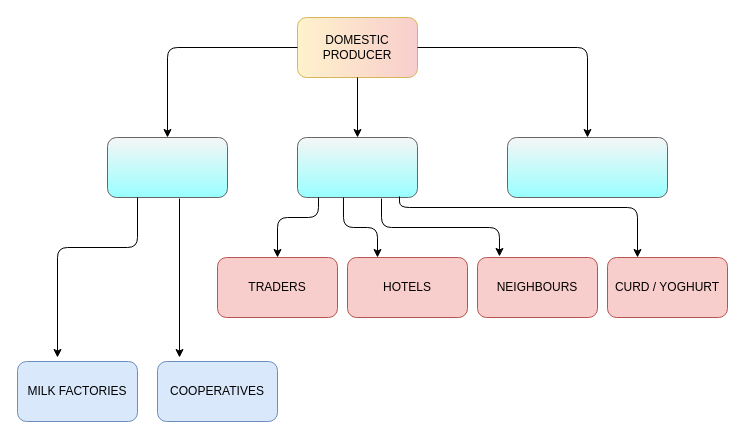
This 745x439 diagram has some shape labels left out. Here are the shapes that lost their labels. From the top down, the centre of each, then its label:
At point 167,167: "COLLECTION CENTRES".
At point 357,167: "LOCAL SALES".
At point 587,167: "HOME CONSUMPTION".
